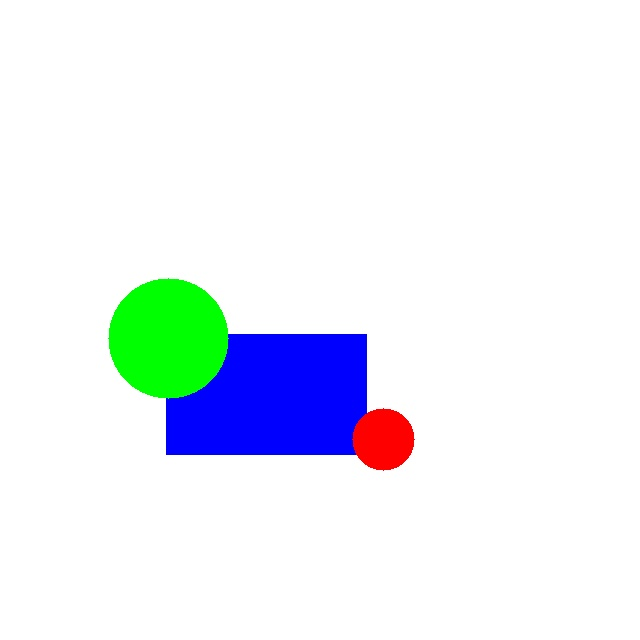cartao: (166, 334, 366, 454)
rosca_externa: (108, 278, 228, 398)
rosca_interna: (352, 408, 414, 470)
